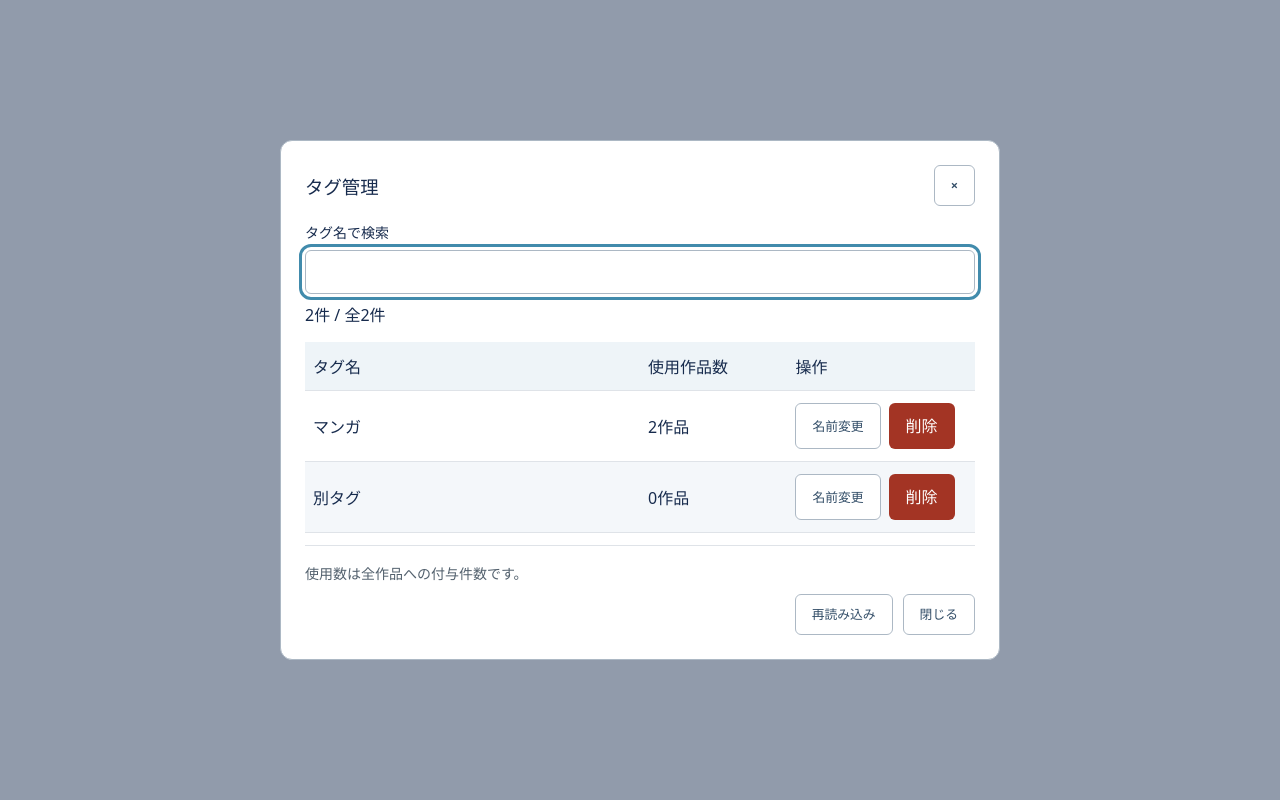
Test case: 競合の再取得失敗で入力と前回表示を残し、成功まで保存を止める
Click the button with aria-label "「マンガ」の名前変更": (838, 426) left=795, top=403, right=881, bottom=449
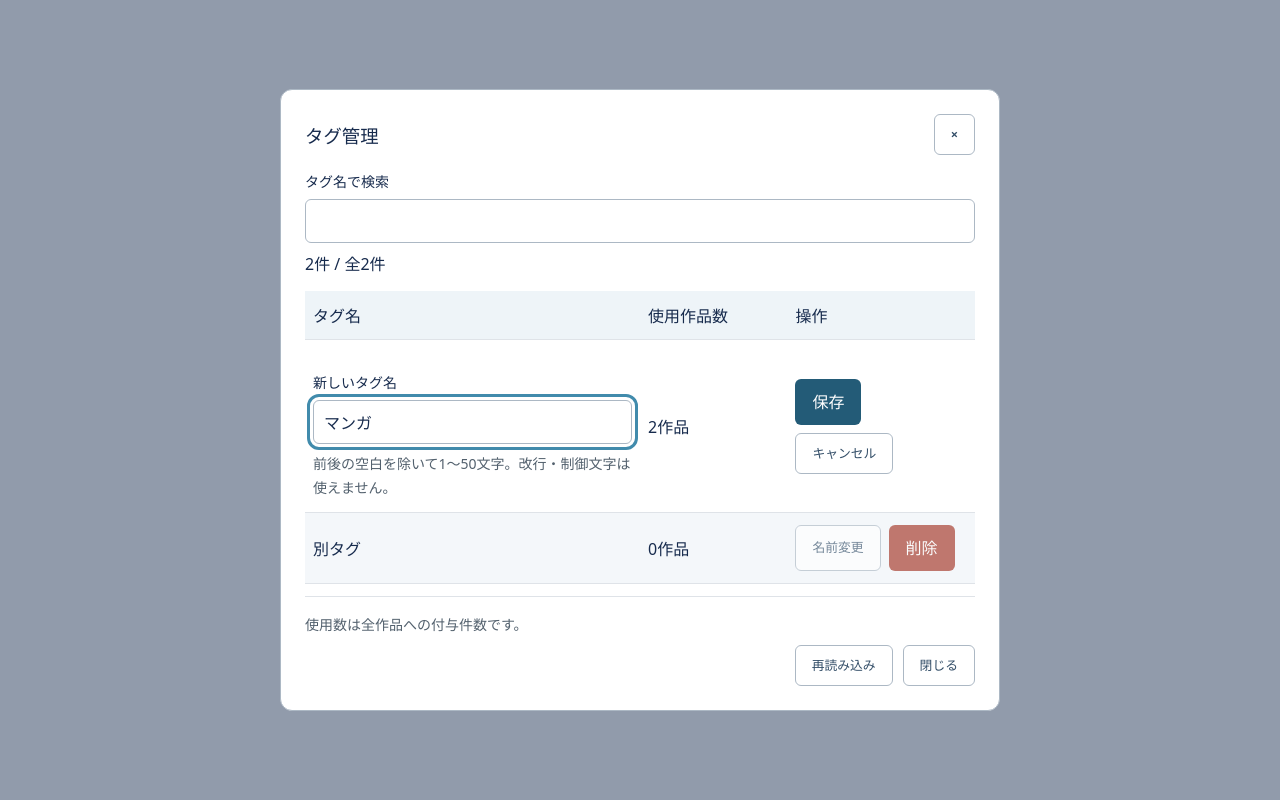
Replace the text in the field labelled "新しいタグ名" with "自分の入力": (472, 422) left=313, top=400, right=632, bottom=444
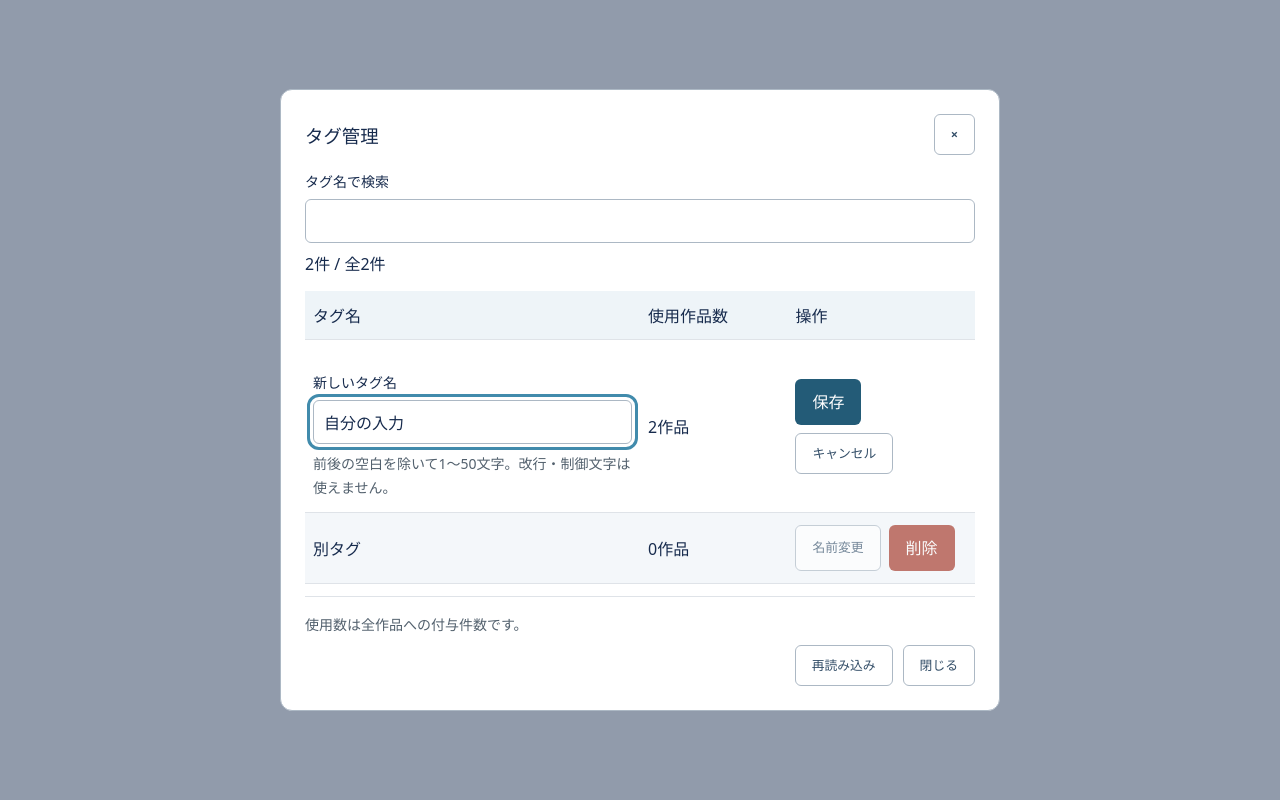
Click the button "保存": (828, 402) left=795, top=378, right=861, bottom=424
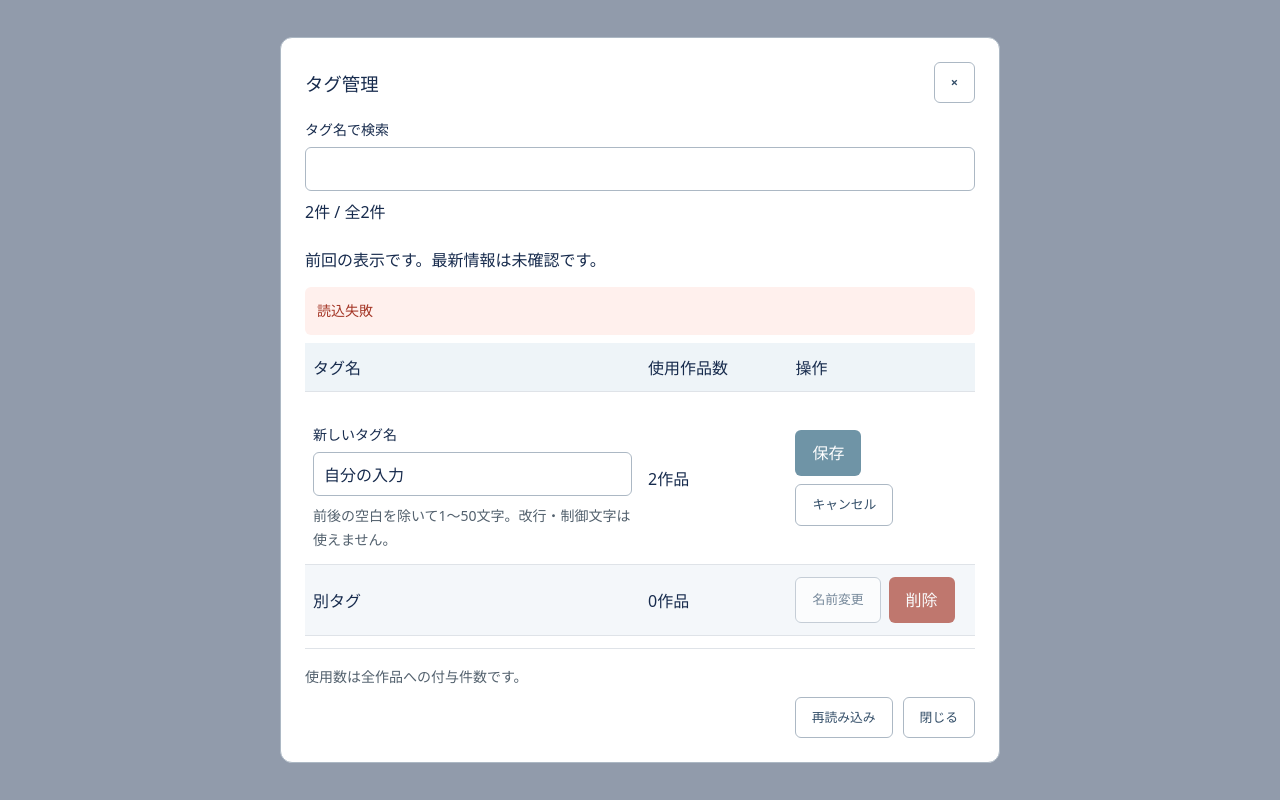
Check: the text "読込失敗" is shown, box left=305, top=287, right=975, bottom=335
Check: the button "保存" is disabled, box left=795, top=430, right=861, bottom=476
Check: the text "前回の表示です。最新情報は未確認です。" is shown, box left=305, top=249, right=606, bottom=271
Click the button "再読み込み": (844, 717) left=795, top=697, right=893, bottom=738
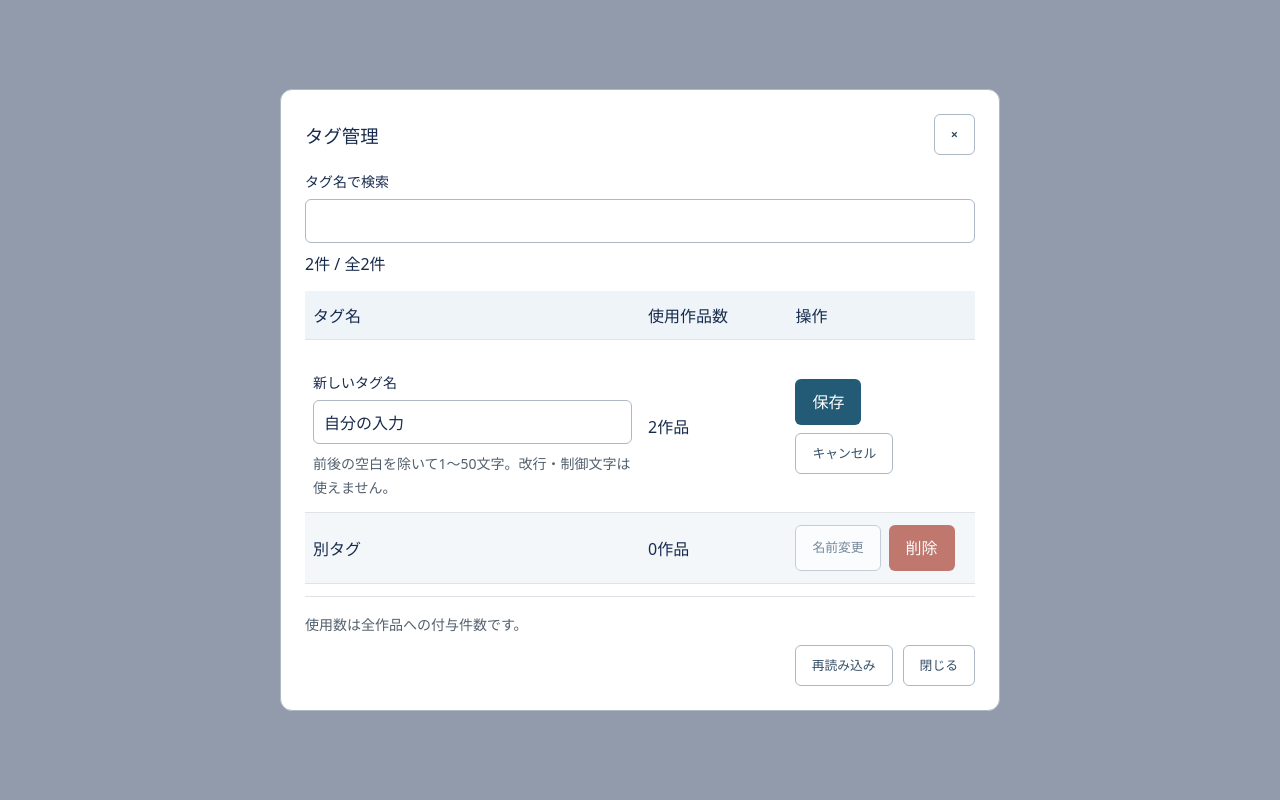
Check: the button "保存" is enabled, box left=795, top=378, right=861, bottom=424
